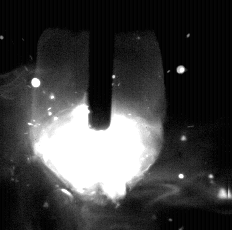arame: (88, 0, 112, 130)
poca: (31, 0, 166, 230)
